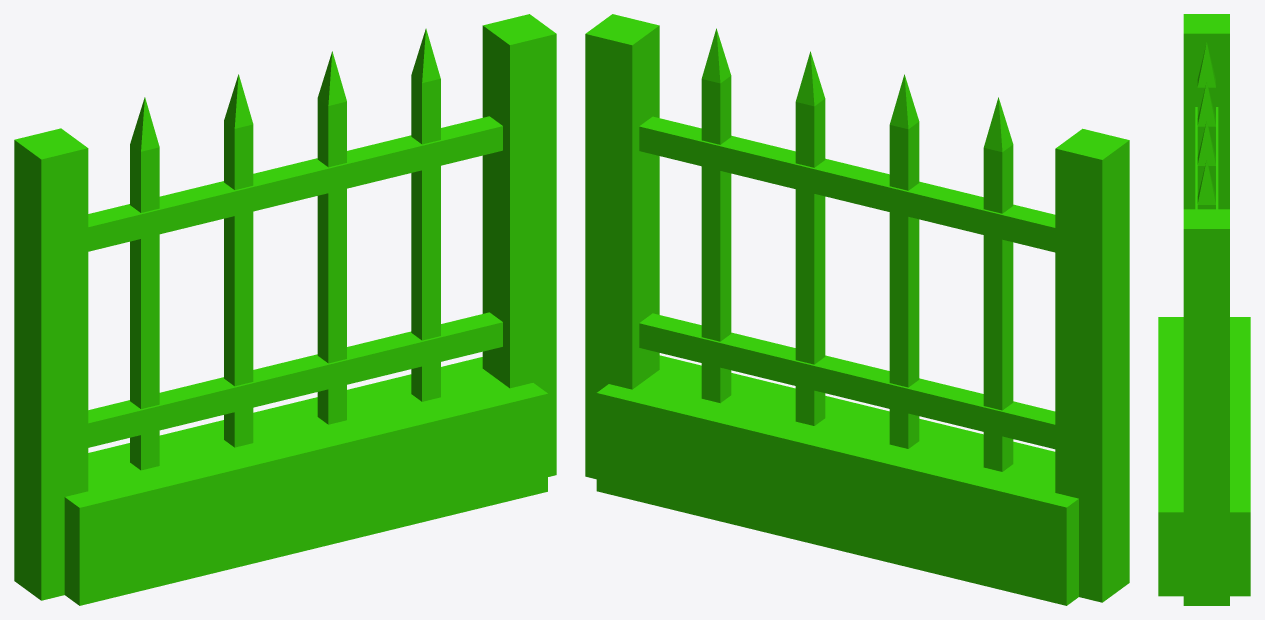
File: fence1_05.fbx
3 views of the same model, side by side, from view 1: azimuth 30°, elevation 25°; view 2: azimuth 150°, elevation 25°; view 3: azimuth 270°, elevation 25° (orthographic). The views are drawn at different scales.
Parts seen in each view (by area): view 1: fence1_05; view 2: fence1_05; view 3: fence1_05.
Part boxes in pixels (box(x1,y1,x2,y2)): fence1_05: box(14, 14, 556, 605); fence1_05: box(585, 14, 1129, 605); fence1_05: box(1158, 14, 1250, 605).
Size of the model in its own units: 110 by 95 by 20.
